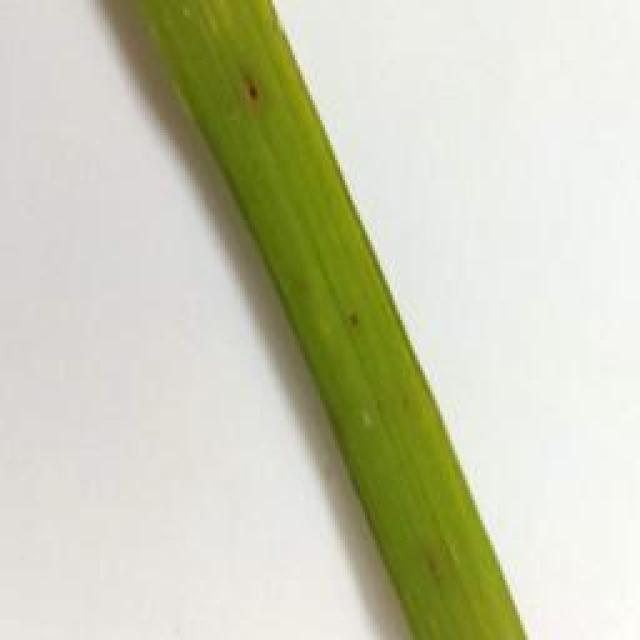Brown_Spot: (398, 540, 462, 597), (324, 292, 390, 346), (224, 64, 281, 118), (279, 263, 319, 309), (388, 388, 419, 426)
